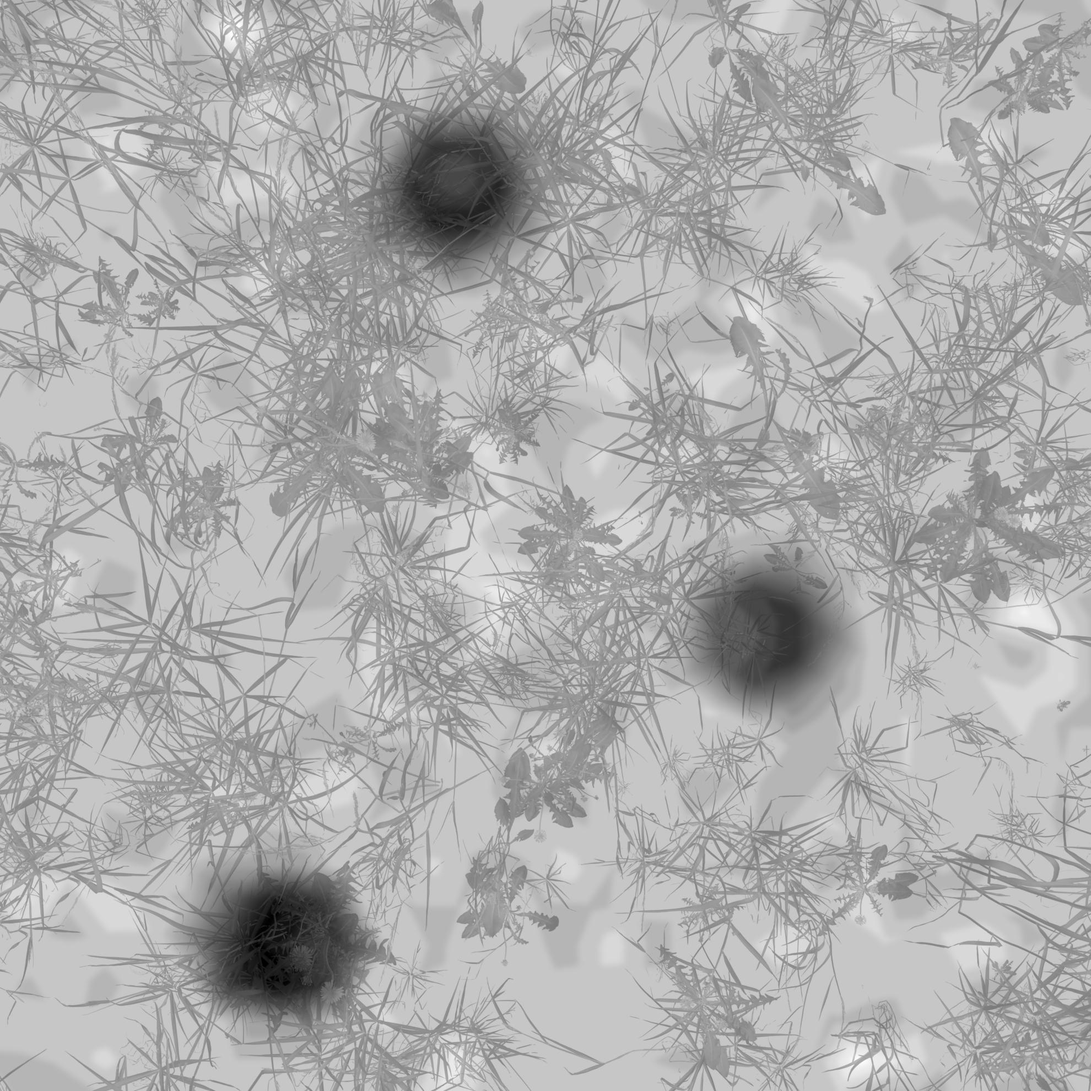landmine: (206, 868, 362, 1031), (373, 118, 538, 258), (696, 565, 829, 702)
